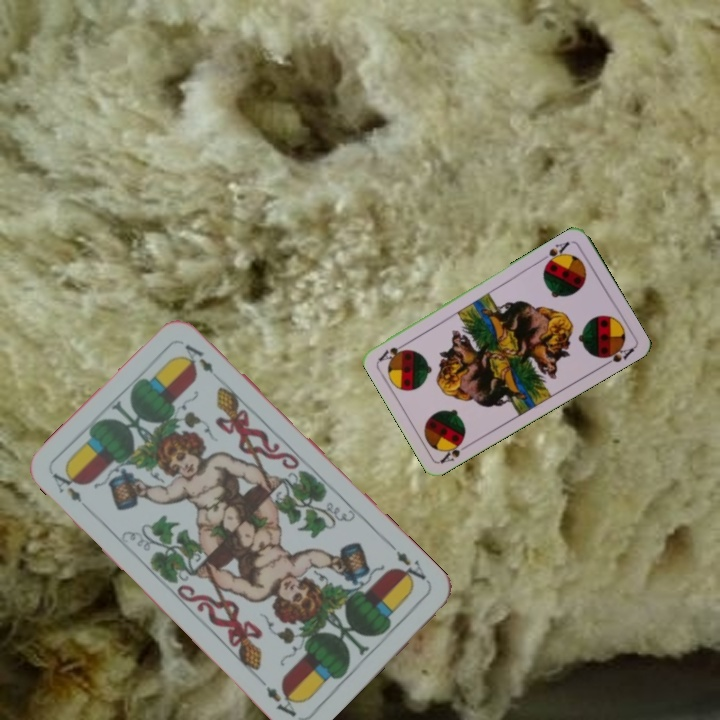EA: (392, 547, 433, 589), (48, 465, 85, 505)
SA: (436, 434, 474, 466), (537, 237, 572, 269)
